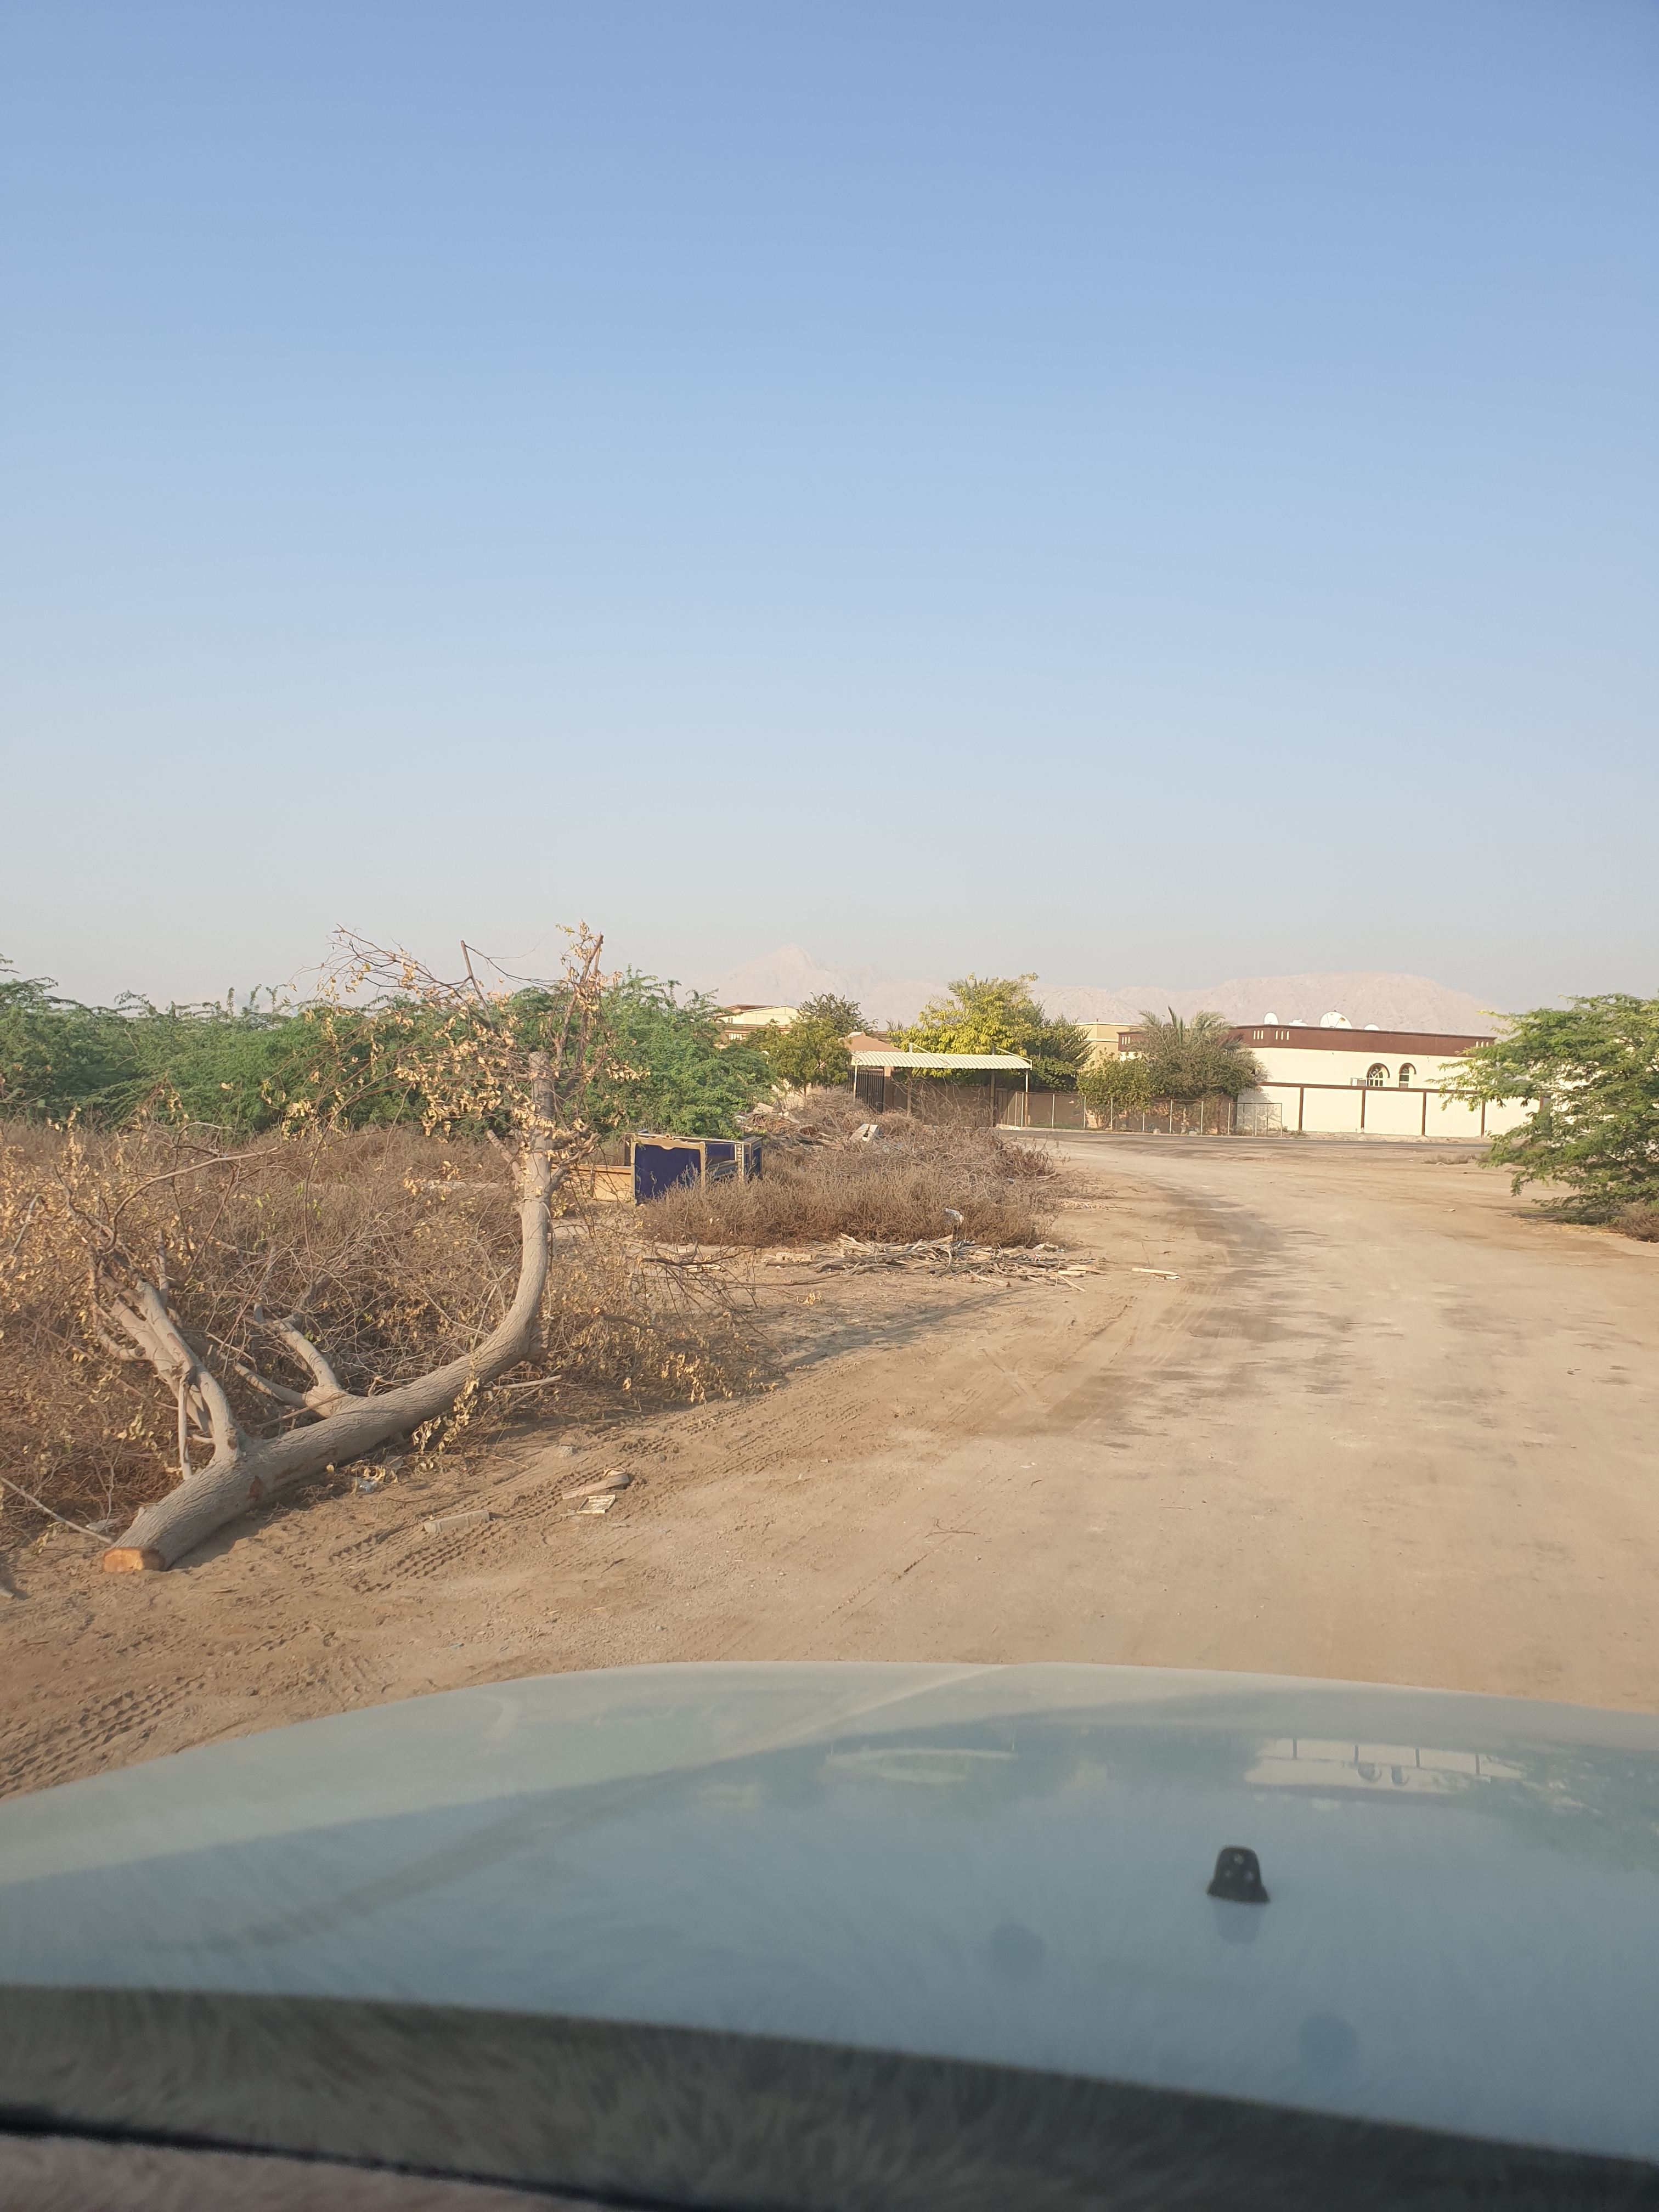fallen_trees: (275, 1289, 509, 1545), (436, 1252, 660, 1433), (469, 1134, 662, 1312), (795, 1228, 1183, 1296), (762, 1209, 1023, 1292), (626, 1099, 781, 1235), (828, 1252, 1096, 1303)
